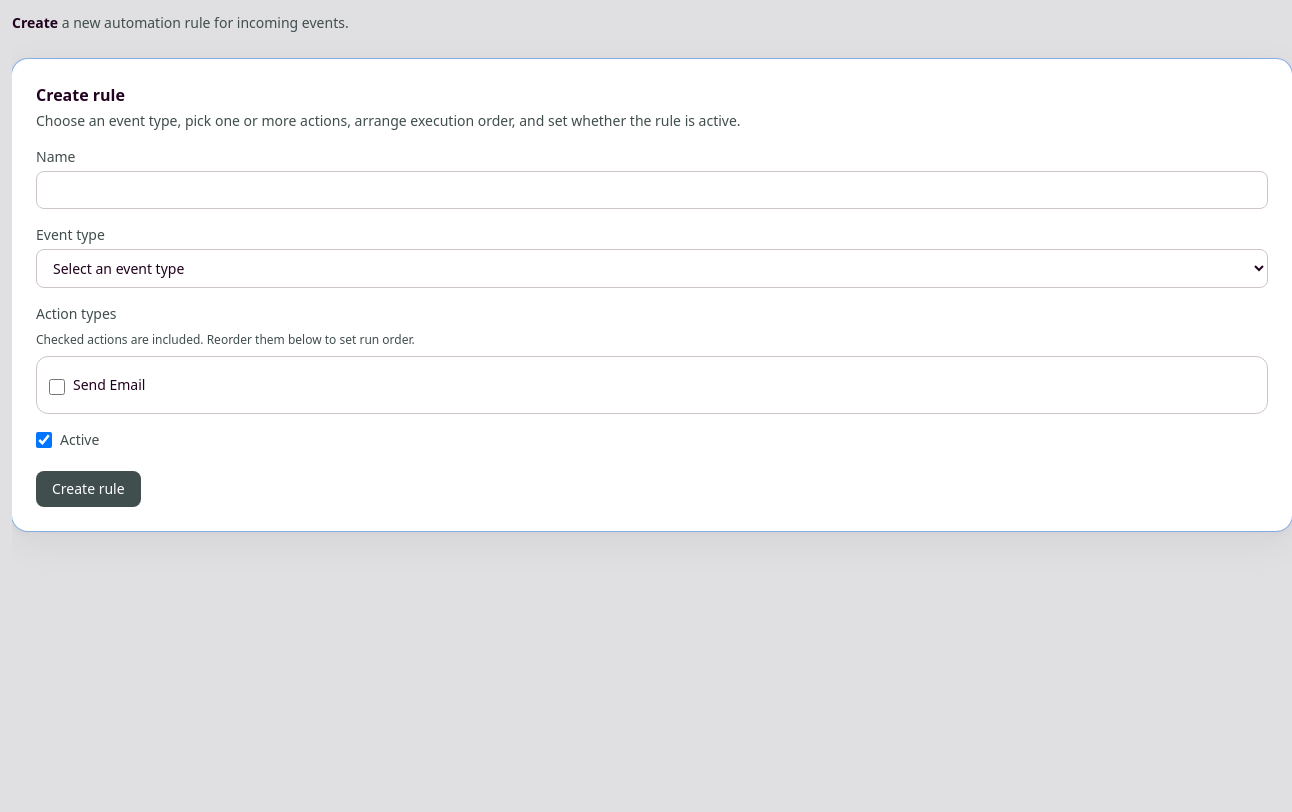
RulesPanel create flow integration › creates a rule successfully through mocked network
The image size is (1292, 812).
Expected: the checkbox labelled "Send Email" is shown, x1=49 y1=379 x2=65 y2=395
Type "Welcome Rule" into the field labelled "Name" at [652, 190], box x1=36 y1=171 x2=1268 y2=209
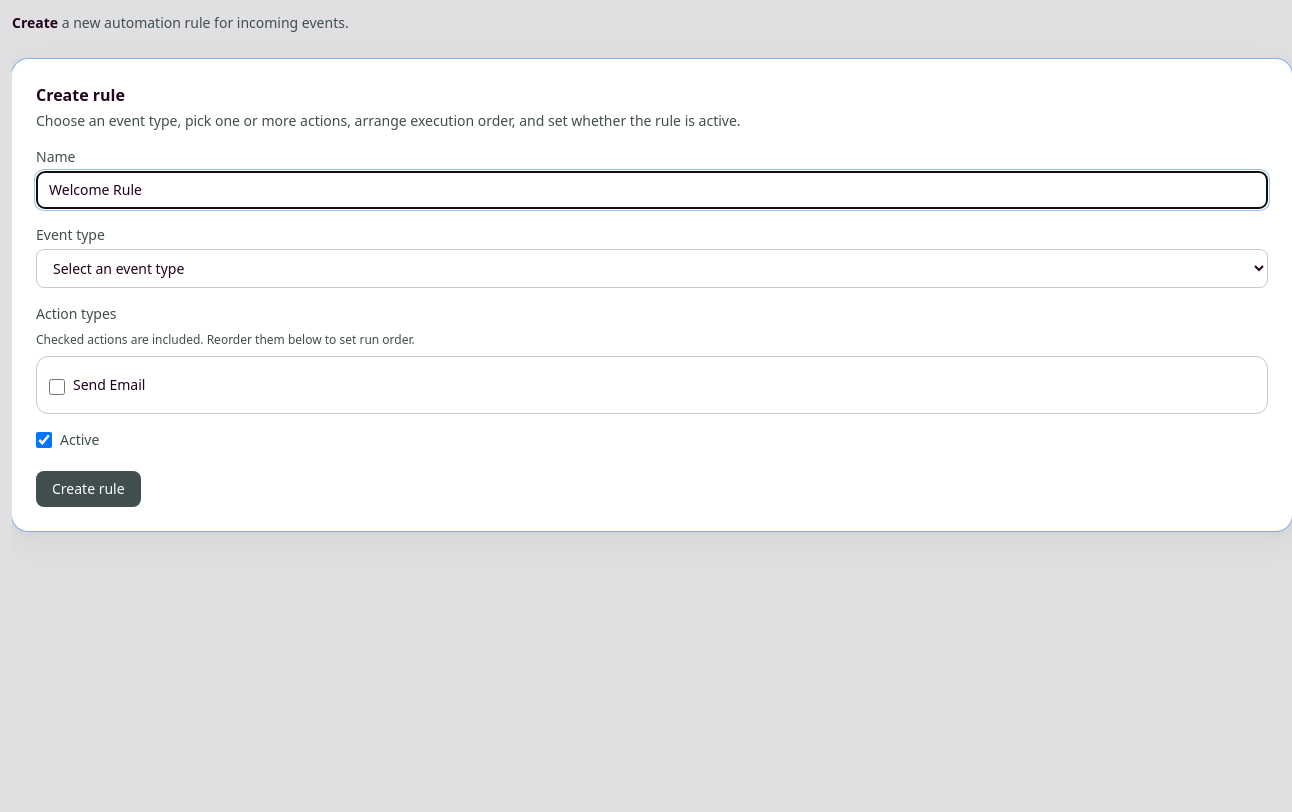
Select "Order Created" in the dropdown labelled "Event type" at [652, 268], box x1=36 y1=249 x2=1268 y2=288
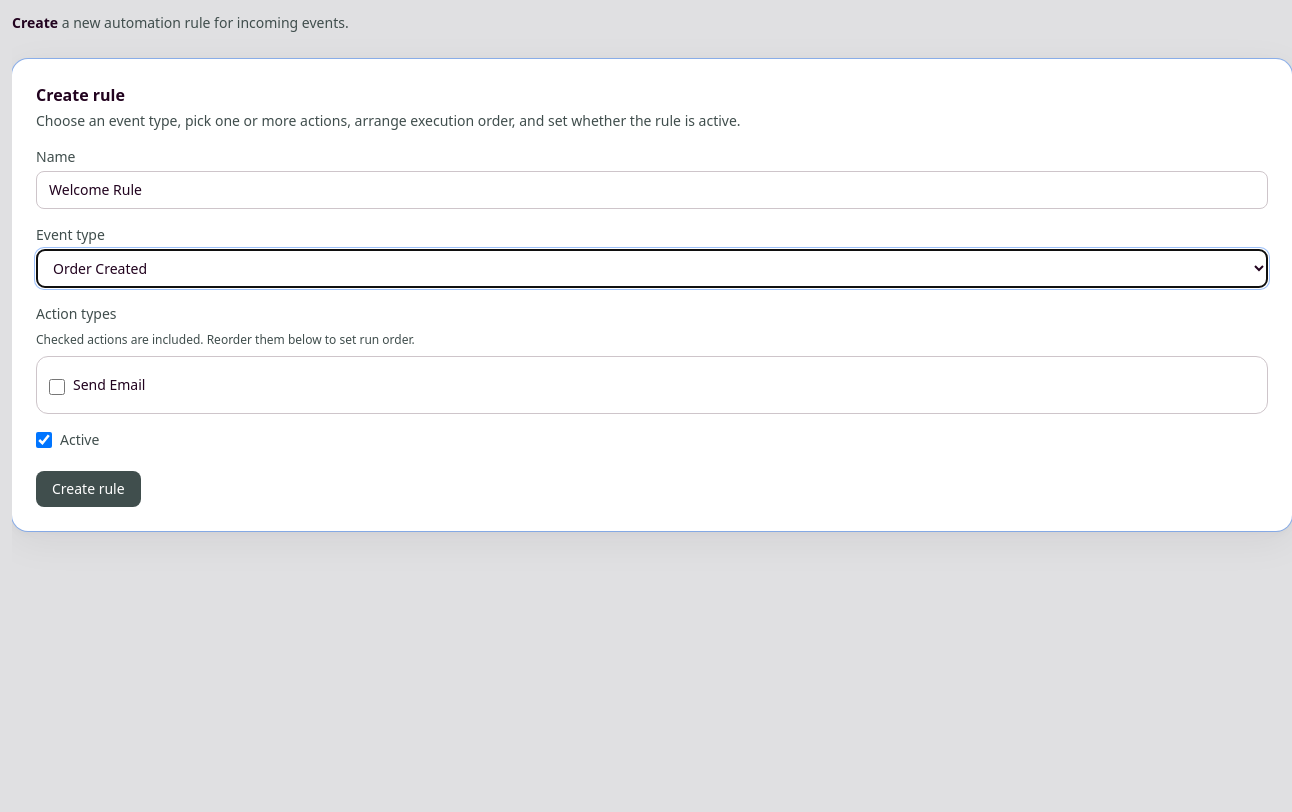
Click the checkbox labelled "Send Email" at [57, 387], box x1=49 y1=379 x2=65 y2=395
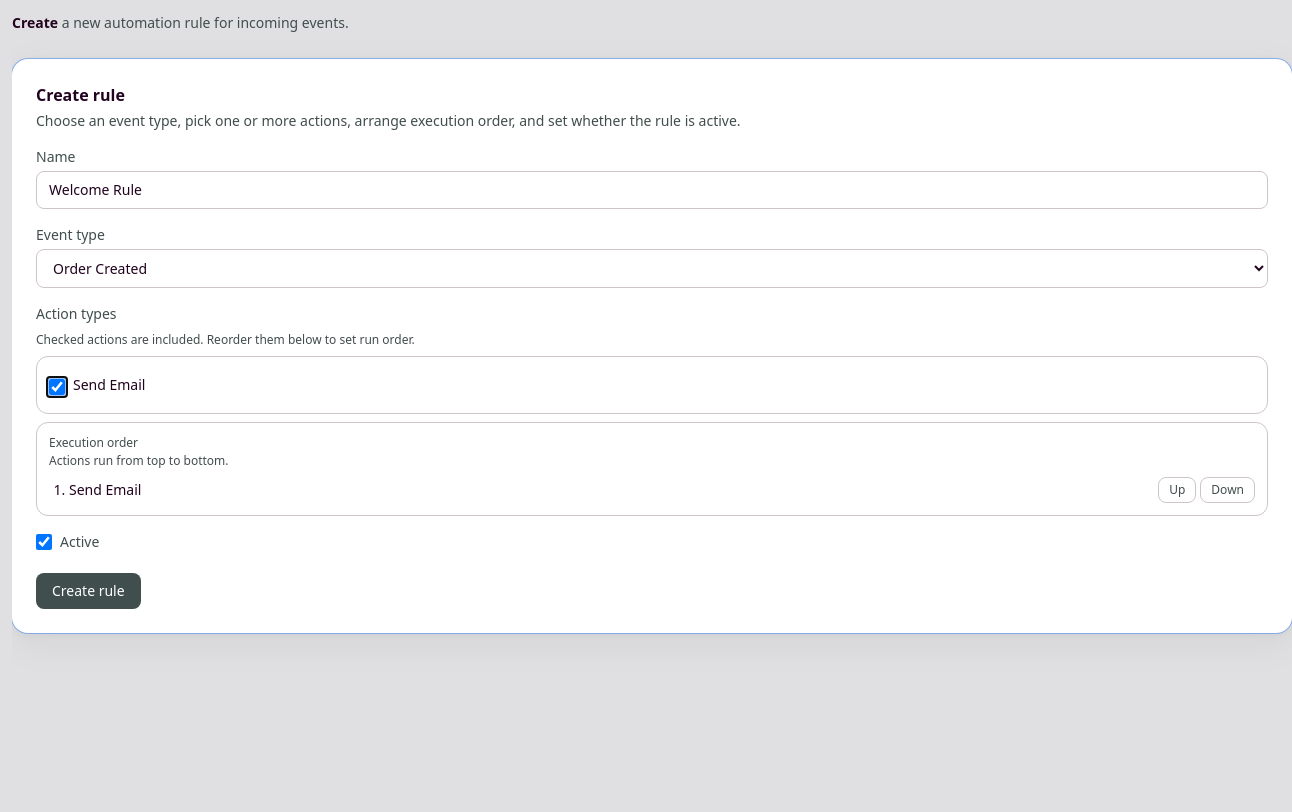
Click the button "Create rule" at [88, 591], box x1=36 y1=573 x2=141 y2=609
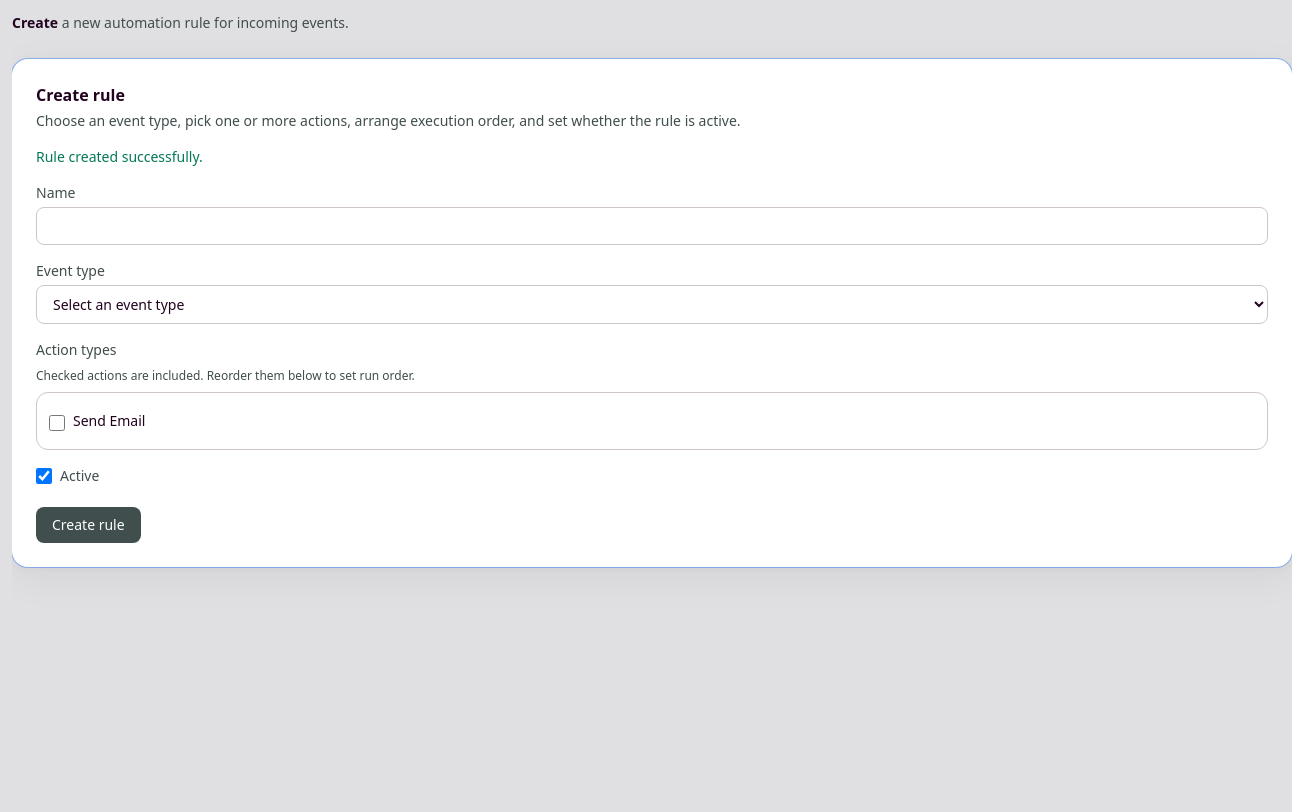
Expected: the text "Welcome Rule" is not shown
Expected: the text "Rule created successfully." is shown, x1=36 y1=147 x2=203 y2=166
